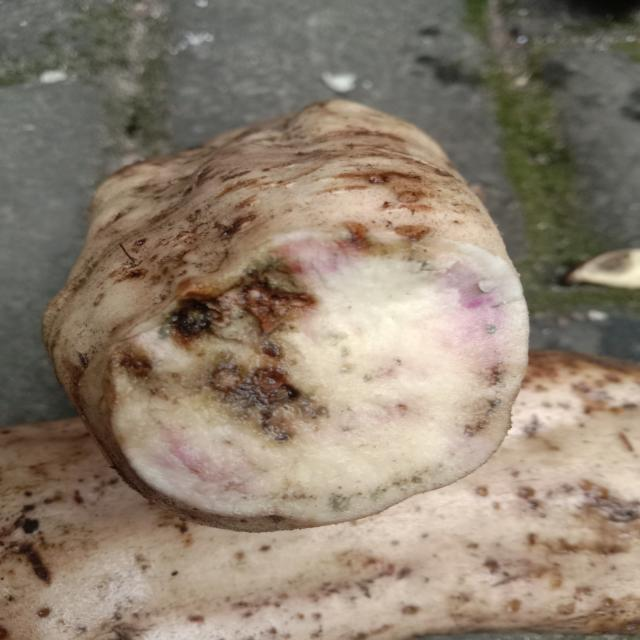Sick Sweet Potato_Tuber Rot: (55, 224, 528, 530)
